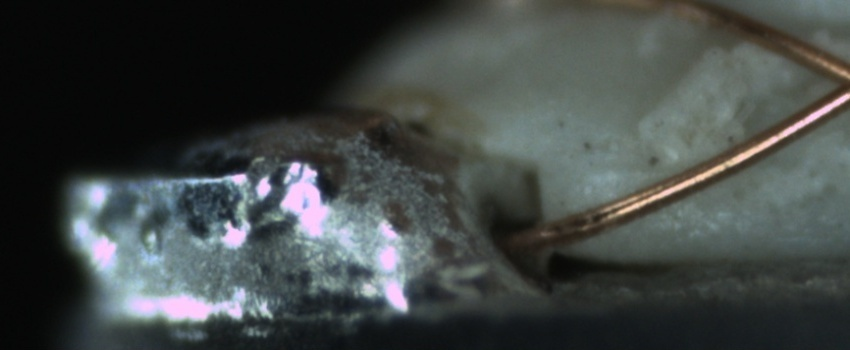CL: (802, 42, 850, 124)
DL: (587, 143, 677, 195)
